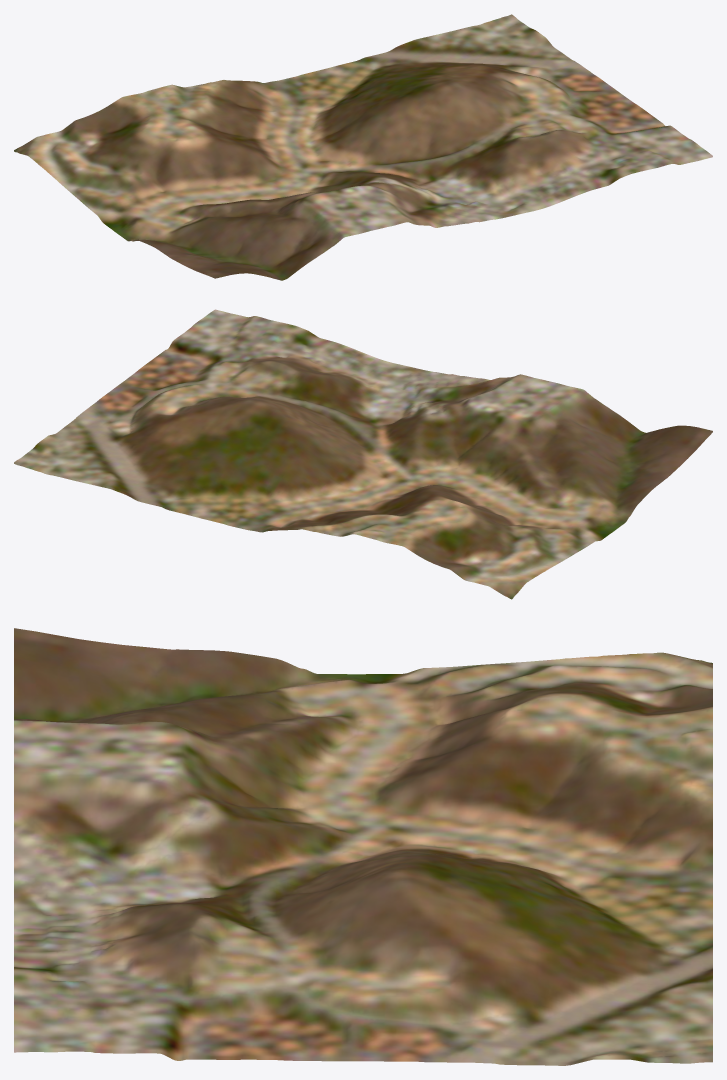
File: terrain_r6_c6.glb
3 renders of one model, top to bottom at view 1: azimuth 30°, elevation 25°; view 2: azimuth 150°, elevation 25°; view 3: azimuth 270°, elevation 25°, orthographic. The views are drawn at different scales.
Visible parts, largest first — view 1: terrain_r6_c6_lod0; view 2: terrain_r6_c6_lod0; view 3: terrain_r6_c6_lod0.
Part boxes in pixels (left/top/right/bottom): terrain_r6_c6_lod0: left=14, top=14, right=712, bottom=280; terrain_r6_c6_lod0: left=14, top=309, right=712, bottom=599; terrain_r6_c6_lod0: left=14, top=628, right=712, bottom=1065.
Size of the model in its own units: 1125 by 115 by 787.
Materials: 1 (1 with a texture image).
